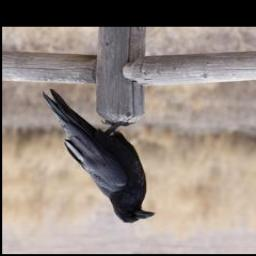Crow: (41, 87, 157, 226)
